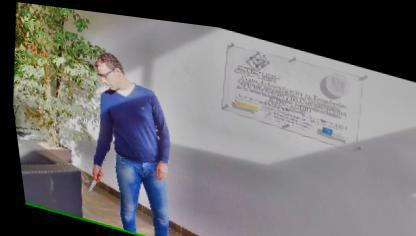knife: (79, 162, 101, 194)
